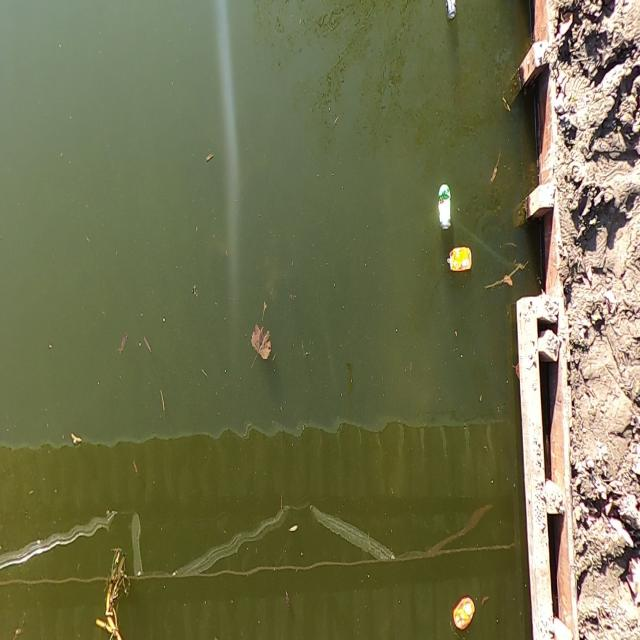Non plastique: (434, 178, 457, 236), (449, 595, 480, 635), (446, 246, 478, 284)
